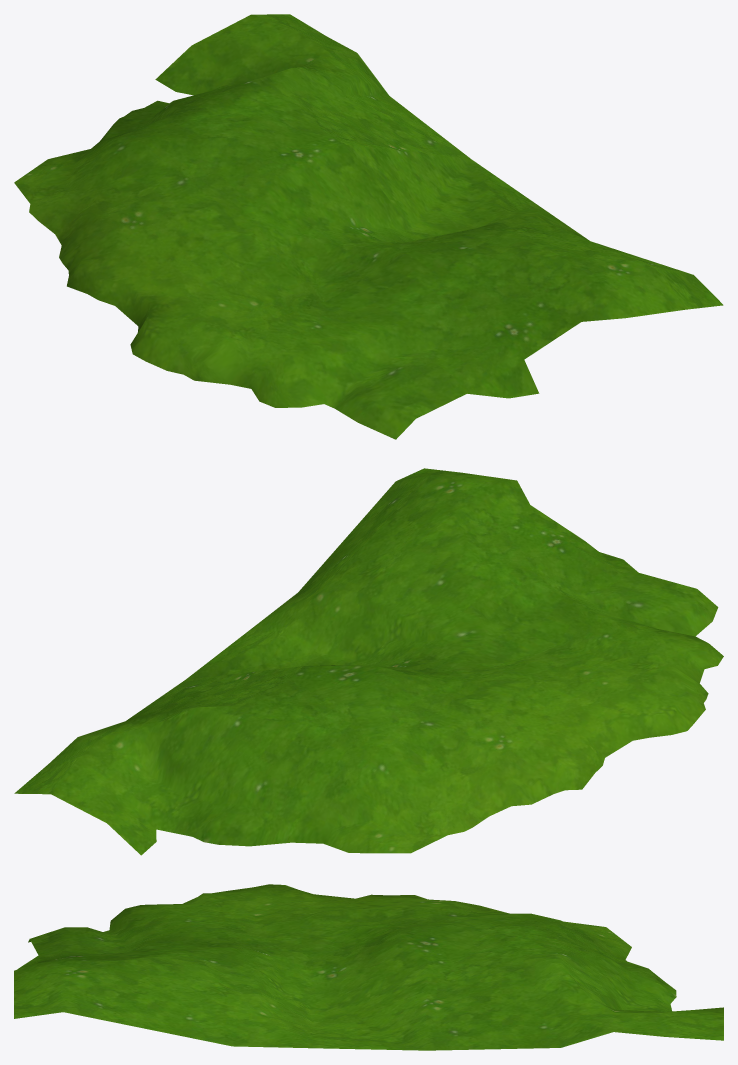
The model's file is Amazon03_Terrain01.FBX.
3 views of the same model, one above another, from view 1: azimuth 30°, elevation 25°; view 2: azimuth 150°, elevation 25°; view 3: azimuth 270°, elevation 25° (orthographic). The views are drawn at different scales.
Parts seen in each view (by area): view 1: Amazon03_Terrain01; view 2: Amazon03_Terrain01; view 3: Amazon03_Terrain01.
Part boxes in pixels (<box>): Amazon03_Terrain01: <box>14,14,723,439</box>; Amazon03_Terrain01: <box>14,468,723,855</box>; Amazon03_Terrain01: <box>14,884,723,1050</box>.
Bounding box in the file's own units: 8671 × 1660 × 14990.
